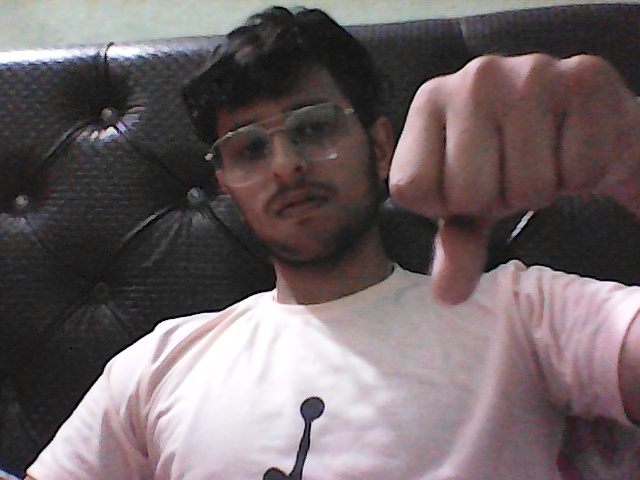yes: (364, 43, 635, 337)
